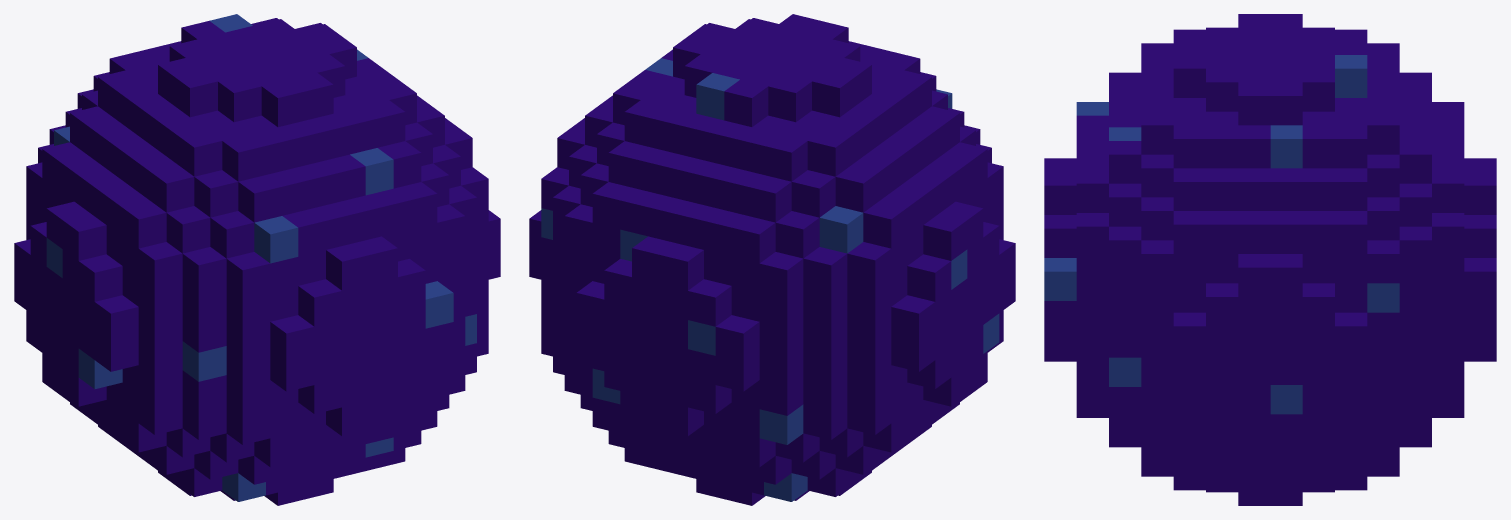
Rendered from planetas-14-azulescuro.obj.
3 views of the same model, side by side, from view 1: azimuth 30°, elevation 25°; view 2: azimuth 150°, elevation 25°; view 3: azimuth 270°, elevation 25° (orthographic).
Size of the model in its own units: 1.4 by 1.4 by 1.4.
Materials: 1 (1 with a texture image).
